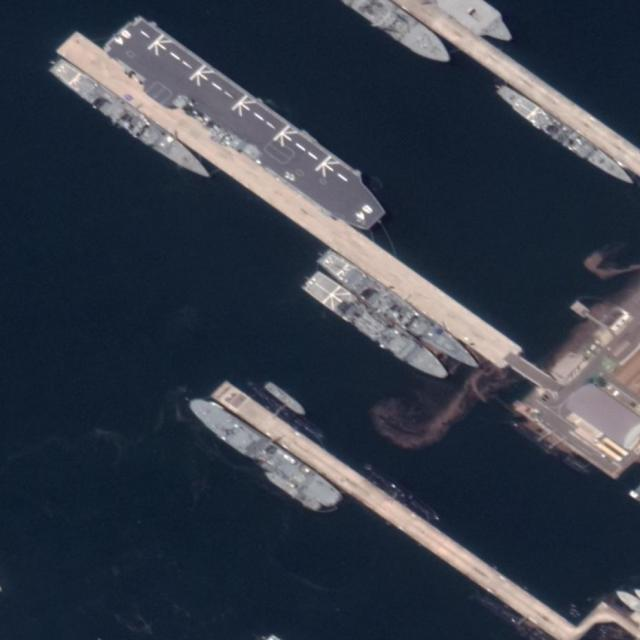Destroyer: (103, 6, 394, 236), (46, 52, 217, 186), (311, 245, 484, 377), (489, 80, 638, 187)
Dock: (54, 36, 548, 383), (209, 377, 564, 636)
Other Warship: (183, 390, 347, 515), (297, 268, 456, 387)
Submarine: (361, 462, 440, 523), (247, 382, 327, 442), (510, 419, 590, 474)
